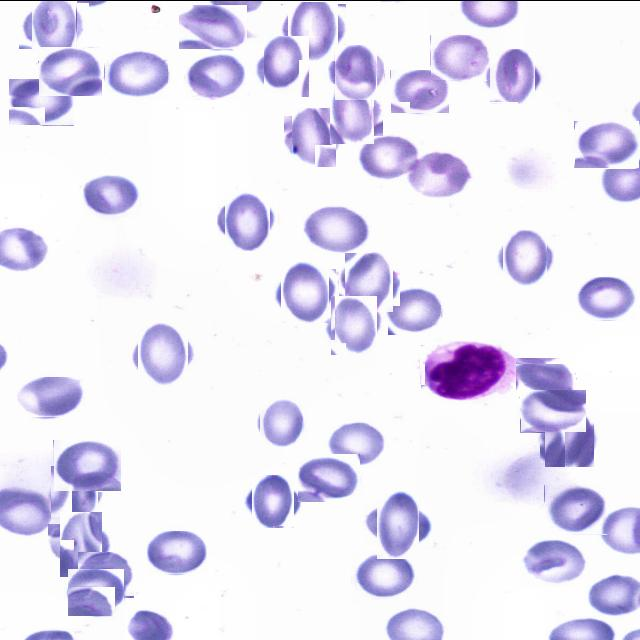leukocyte: (420, 340, 519, 402)
red blood cell: (300, 202, 372, 252), (53, 439, 121, 491), (351, 550, 415, 603), (134, 325, 192, 383), (284, 0, 342, 57), (405, 148, 472, 197), (104, 48, 168, 98), (38, 46, 102, 96), (574, 120, 640, 168), (544, 484, 607, 534), (370, 496, 426, 552), (25, 0, 83, 54), (178, 4, 247, 49), (8, 78, 74, 125), (184, 50, 245, 100), (278, 264, 332, 320), (298, 453, 360, 501), (342, 254, 397, 308), (522, 538, 586, 584), (220, 192, 274, 246), (542, 410, 596, 464), (260, 38, 314, 92), (54, 517, 108, 571), (357, 133, 418, 180), (520, 389, 586, 432), (327, 298, 380, 351), (48, 468, 101, 520), (67, 568, 124, 616), (146, 530, 208, 574), (575, 276, 637, 320), (288, 110, 340, 162), (326, 87, 378, 139), (17, 376, 84, 416), (82, 174, 140, 220), (430, 34, 487, 80), (77, 550, 134, 596), (328, 420, 386, 465), (390, 69, 449, 113), (500, 231, 550, 282), (388, 286, 441, 334), (488, 50, 538, 100), (515, 356, 576, 396), (332, 47, 381, 96), (249, 477, 297, 525), (258, 399, 304, 445)
